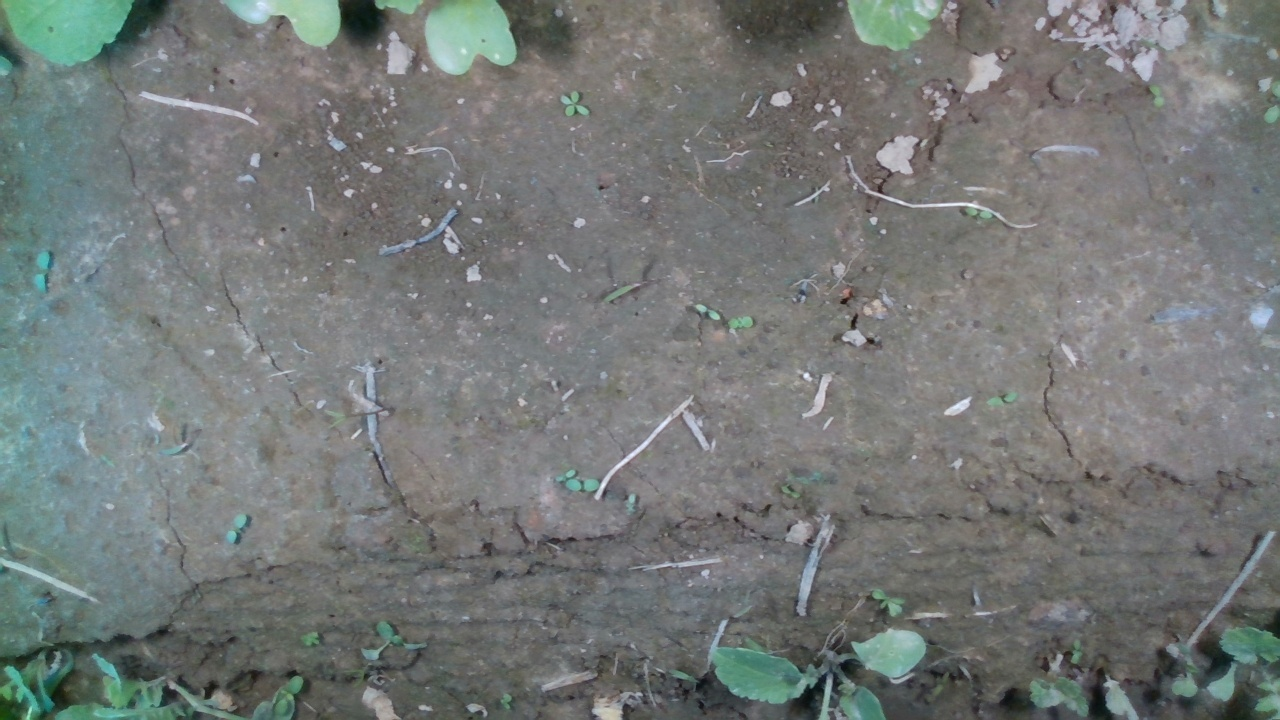weed: (870, 588, 905, 619), (556, 89, 591, 118), (29, 249, 49, 295), (224, 513, 248, 546), (985, 389, 1019, 410), (1147, 82, 1169, 110), (692, 302, 722, 321), (725, 314, 755, 330), (961, 206, 992, 221), (1069, 637, 1083, 666)
